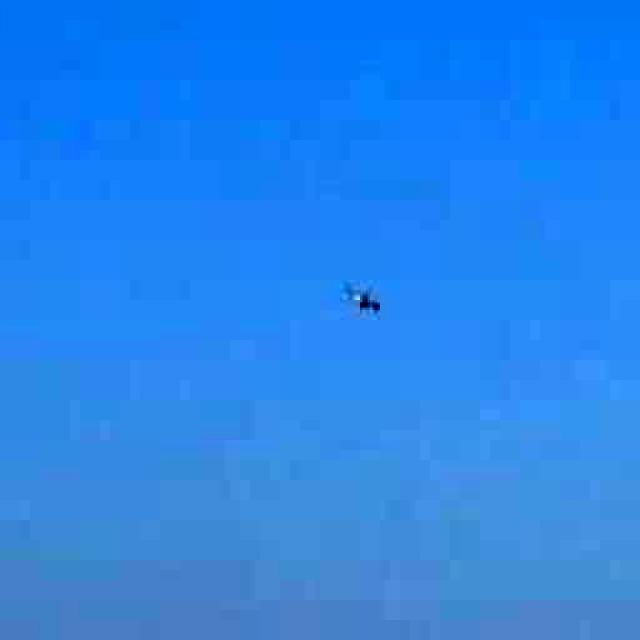bird: (325, 261, 405, 336)
